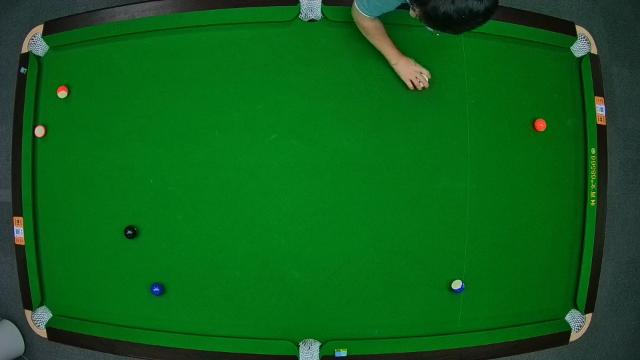bag1: (26, 35, 46, 55)
bag2: (298, 0, 324, 22)
bag3: (572, 36, 592, 56)
bag4: (31, 306, 53, 326)
bag5: (298, 340, 322, 360)
bag6: (567, 308, 587, 330)
ball10: (450, 278, 466, 294)
ball12: (34, 124, 46, 138)
ball13: (57, 85, 69, 99)
ball2: (150, 282, 166, 298)
ball5: (534, 118, 548, 132)
ball8: (124, 224, 138, 240)
